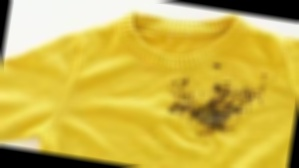earth: (163, 75, 259, 142)
